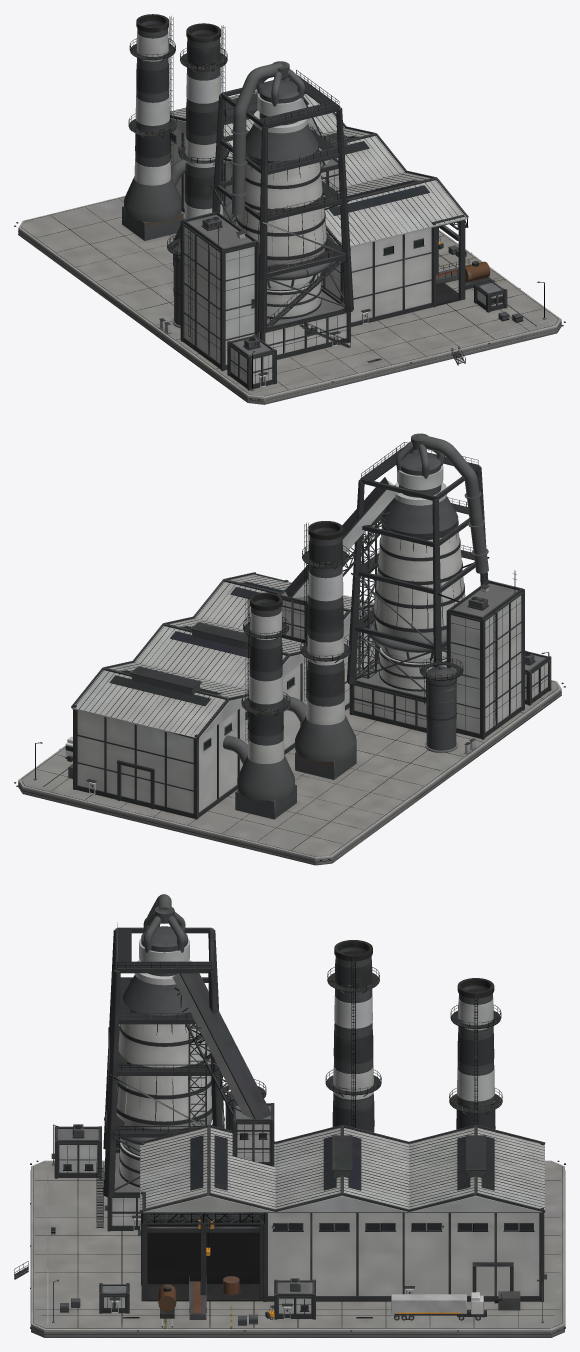
Rendered from steel_mill.lite.glb.
The picture shows the model from 3 angles, top to bottom: view 1: azimuth 30°, elevation 25°; view 2: azimuth 150°, elevation 25°; view 3: azimuth 270°, elevation 25°; orthographic projection. The views are drawn at different scales.
Visible parts, largest first — view 1: hull; view 2: hull; view 3: hull, parts_yard-truck.
Part boxes in pixels (x1=…): hull: x1=14, y1=14, x2=565, y2=404; hull: x1=14, y1=433, x2=565, y2=865; hull: x1=14, y1=894, x2=565, y2=1337; parts_yard-truck: x1=391, y1=1292, x2=486, y2=1320.
Size of the model in its own units: 72.42 by 61.48 by 99.28.
Materials: 5 (5 with a texture image).
